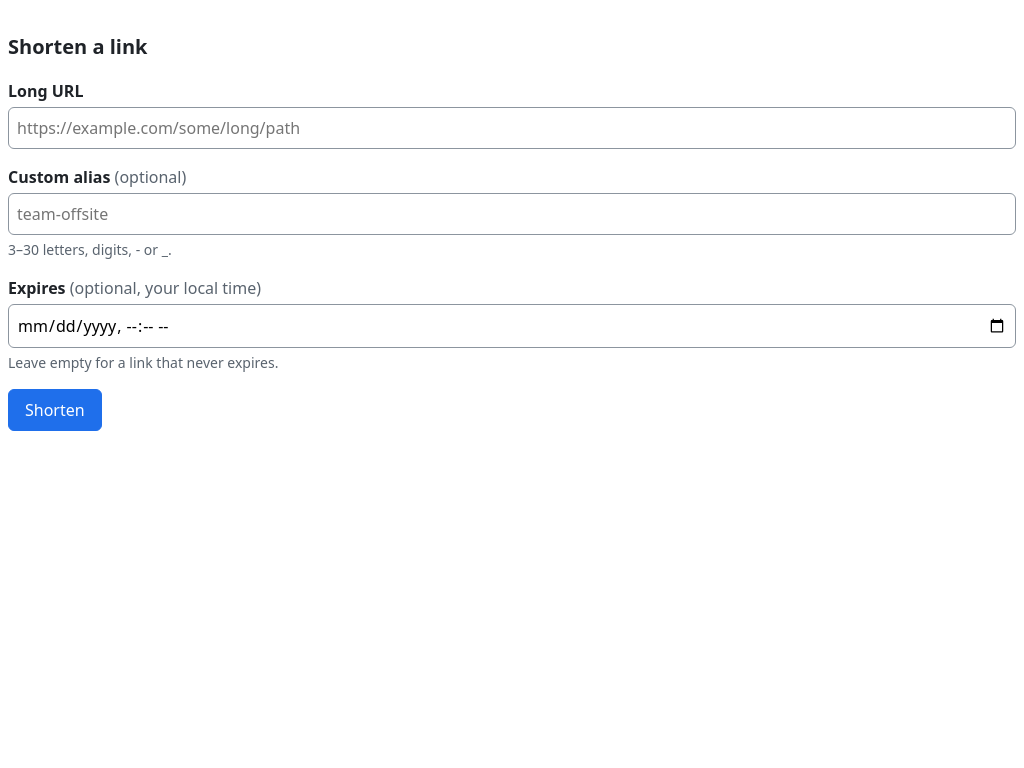
Test: CreateLinkForm › offers manual copy when the clipboard is unavailable
Type "https://example.com/" into the field labelled "Long URL".
click(512, 128); type("https://example.com/")  # box [8,107,1016,149]
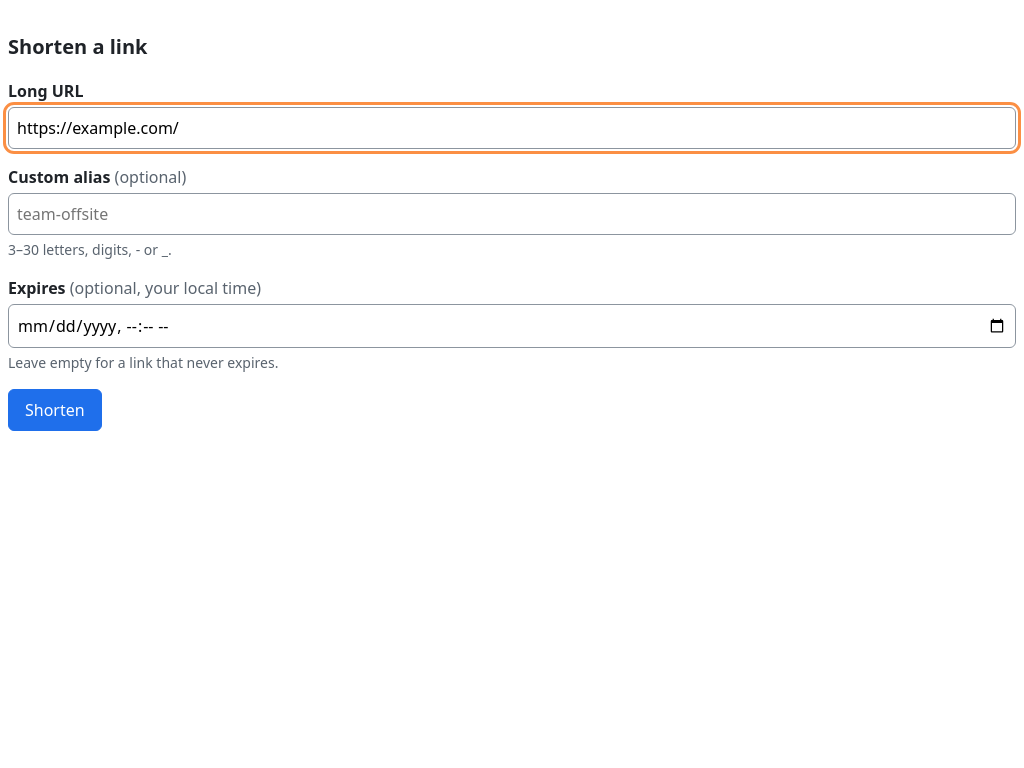
Click the button "Shorten".
click(55, 410)  # box [8,389,102,431]
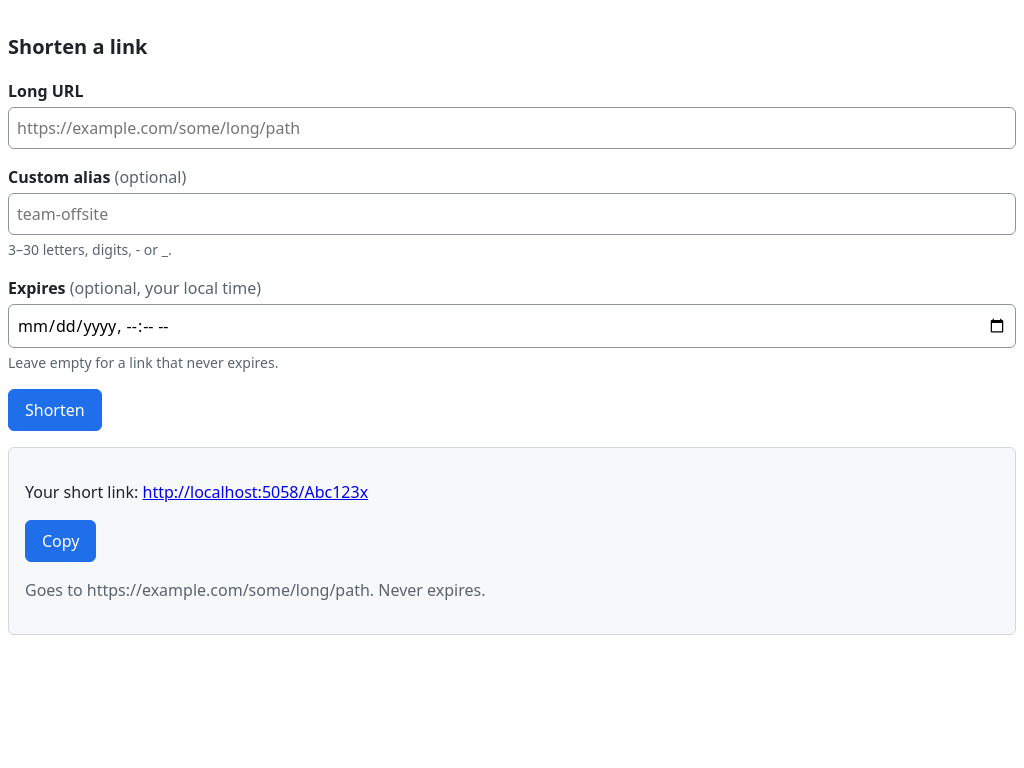
Click the button "Copy".
click(61, 541)  # box [25,520,96,562]
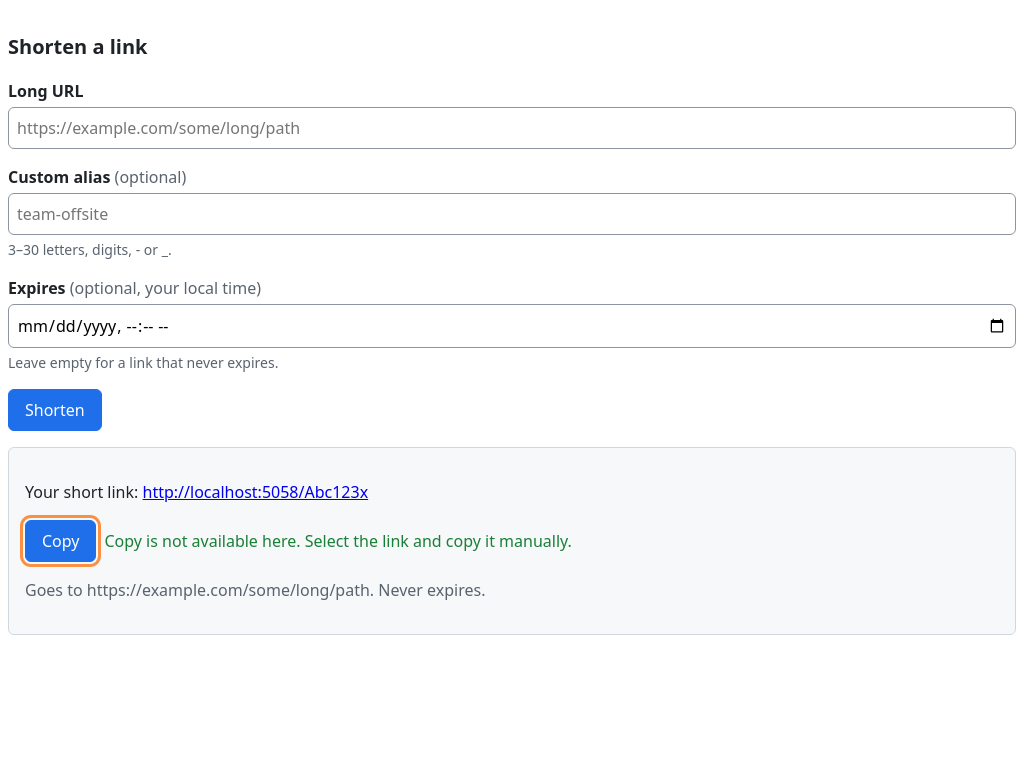
Expected: the text "Select the link and copy it manually" is shown, [104,530,572,552]
